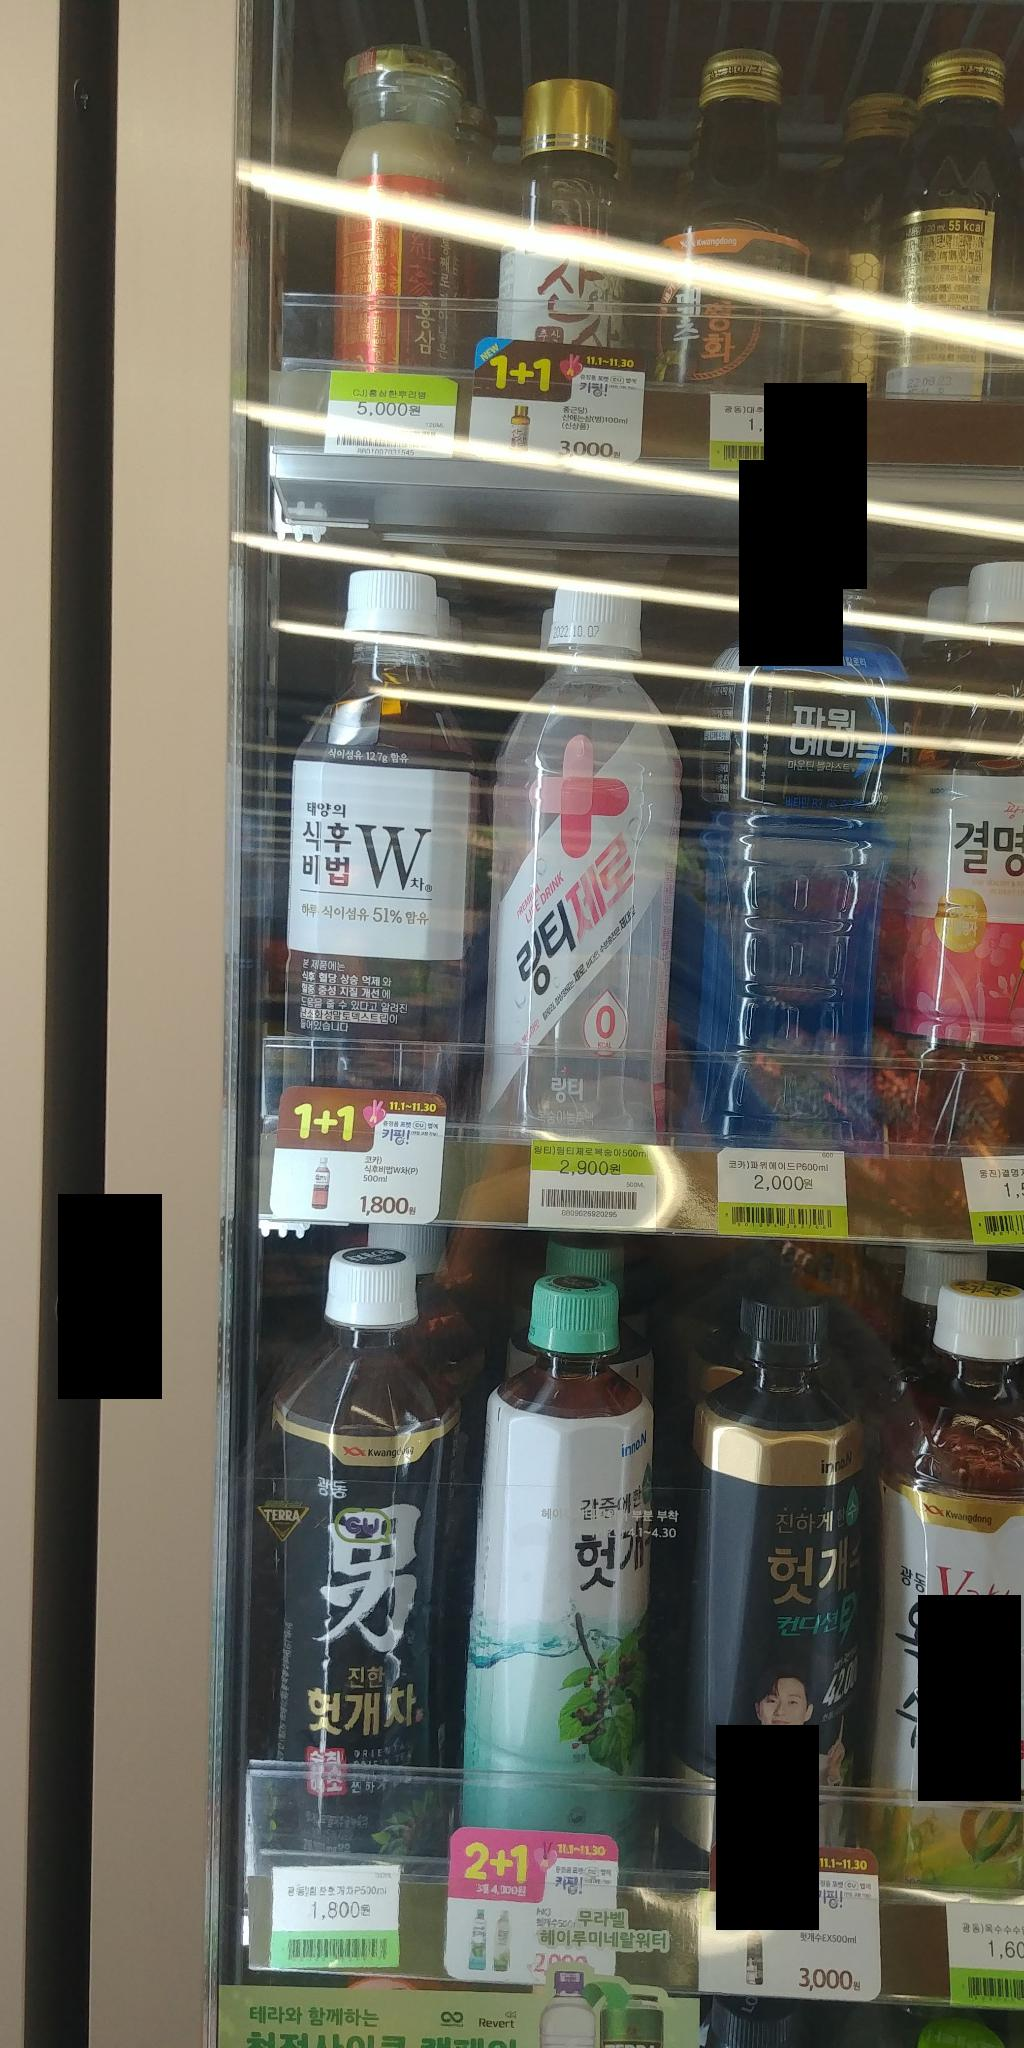heotgaecha: (232, 1230, 465, 1856)
powerade_mountainblast: (687, 516, 891, 1153)
